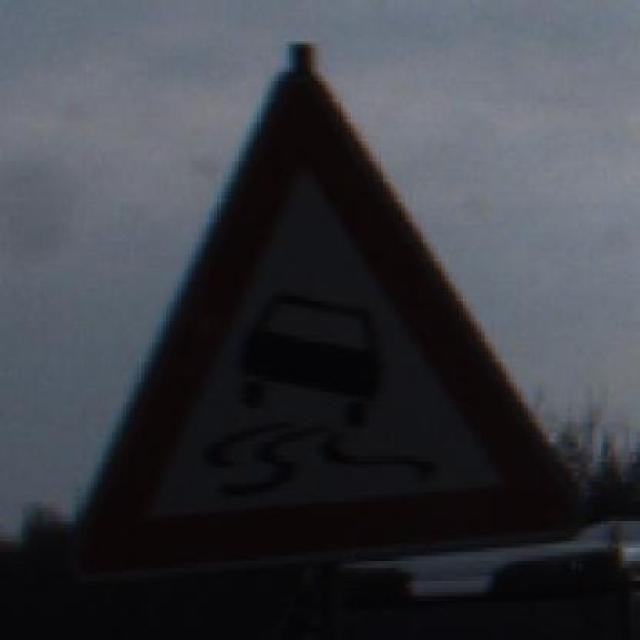Slippery Road Ahead: (72, 35, 590, 580)
